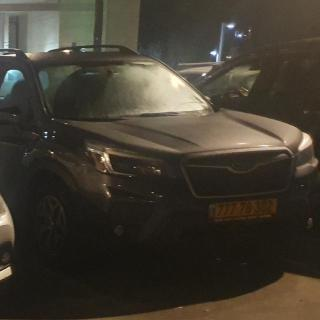LicensePlate: (213, 198, 280, 219)
